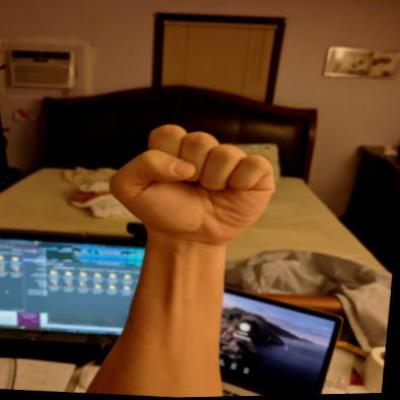hand: (102, 117, 286, 252)
